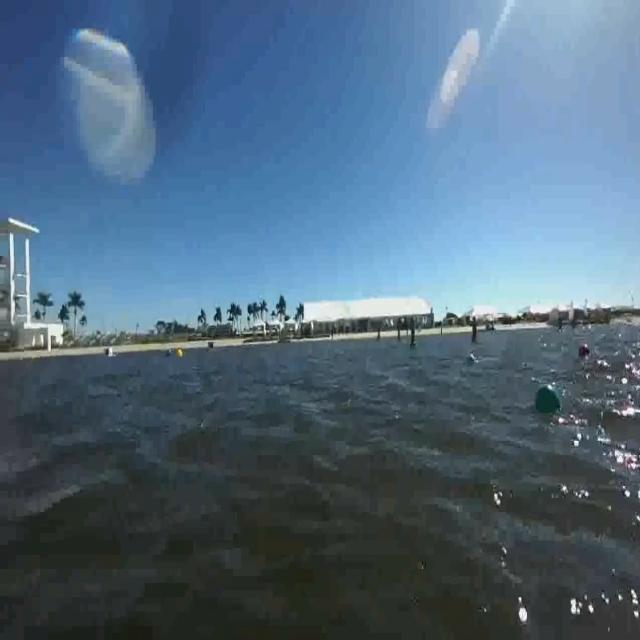green-buoy: (535, 384, 561, 414)
